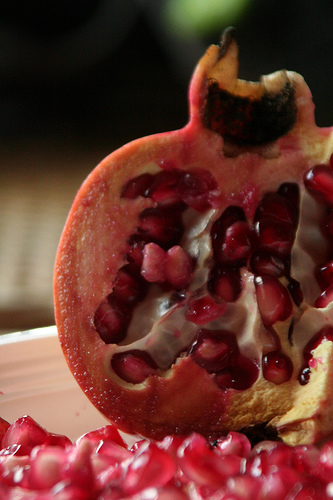pomogranate: (51, 25, 327, 446), (0, 416, 331, 498)
